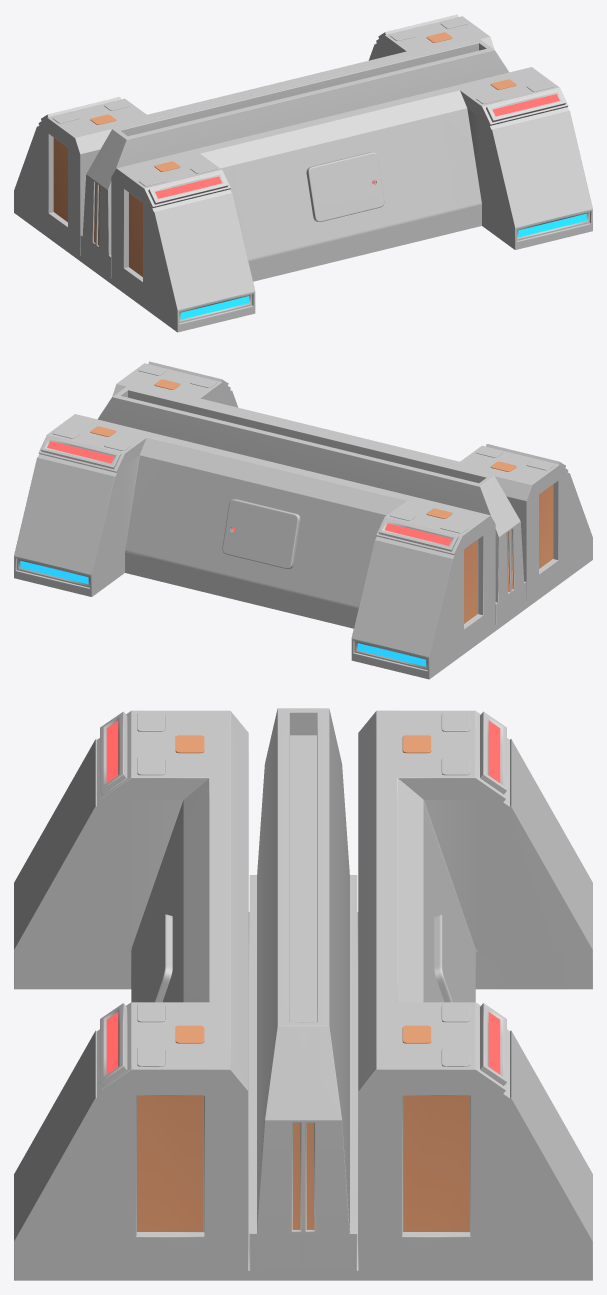
The picture shows the model from 3 angles, top to bottom: view 1: azimuth 30°, elevation 25°; view 2: azimuth 150°, elevation 25°; view 3: azimuth 270°, elevation 25°; orthographic projection. The views are drawn at different scales.
Visible parts, largest first — view 1: Base; view 2: Base; view 3: Base.
Boxes of the visible parts, x1=… form: Base: x1=14, y1=14, x2=592, y2=332; Base: x1=14, y1=361, x2=592, y2=679; Base: x1=14, y1=708, x2=592, y2=1280.
Size of the model in its own units: 163 by 49.6 by 111.
